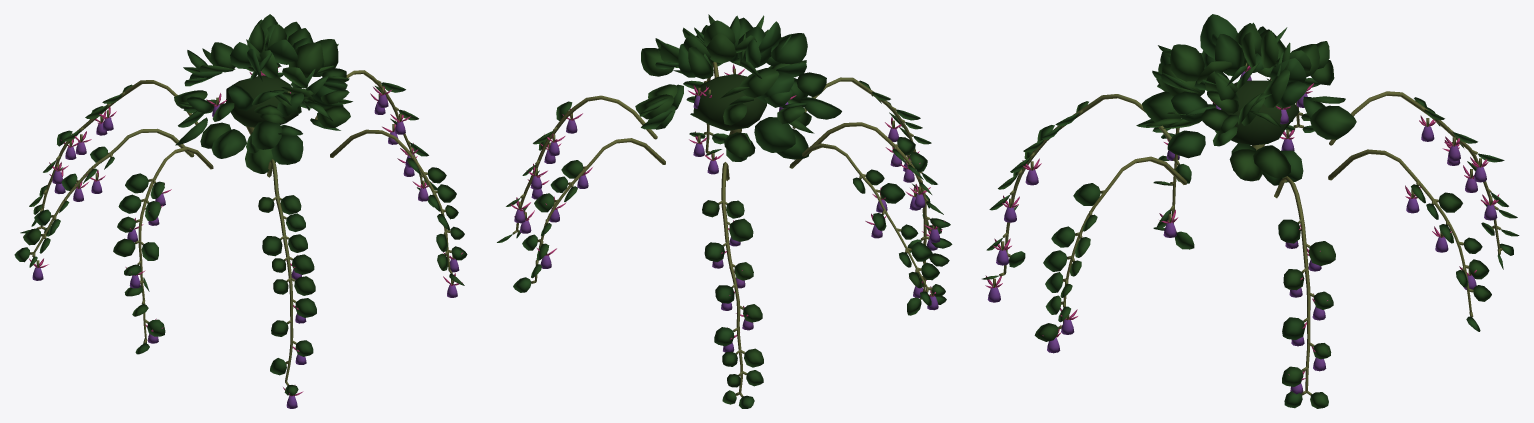
The model's file is potfill_fuchsia.glb.
3 views of the same model, side by side, from view 1: azimuth 30°, elevation 25°; view 2: azimuth 150°, elevation 25°; view 3: azimuth 270°, elevation 25° (orthographic). The views are drawn at different scales.
Visible parts, largest first — view 1: Sammel Pflanze, Sammel Putz, Sammel Blatt; view 2: Sammel Pflanze, Sammel Putz, Sammel Blatt; view 3: Sammel Pflanze, Sammel Putz, Sammel Blatt.
Part boxes in pixels (box(x1,y1,x2,y2)): Sammel Pflanze: box(14, 14, 467, 408); Sammel Putz: box(29, 70, 454, 395); Sammel Blatt: box(226, 76, 298, 127); Sammel Pflanze: box(497, 14, 952, 408); Sammel Putz: box(512, 62, 935, 396); Sammel Blatt: box(693, 74, 766, 130); Sammel Pflanze: box(982, 14, 1519, 408); Sammel Putz: box(993, 63, 1502, 395); Sammel Blatt: box(1212, 80, 1299, 145).
Size of the model in its own units: 0.7783 by 0.4993 by 0.7575.
